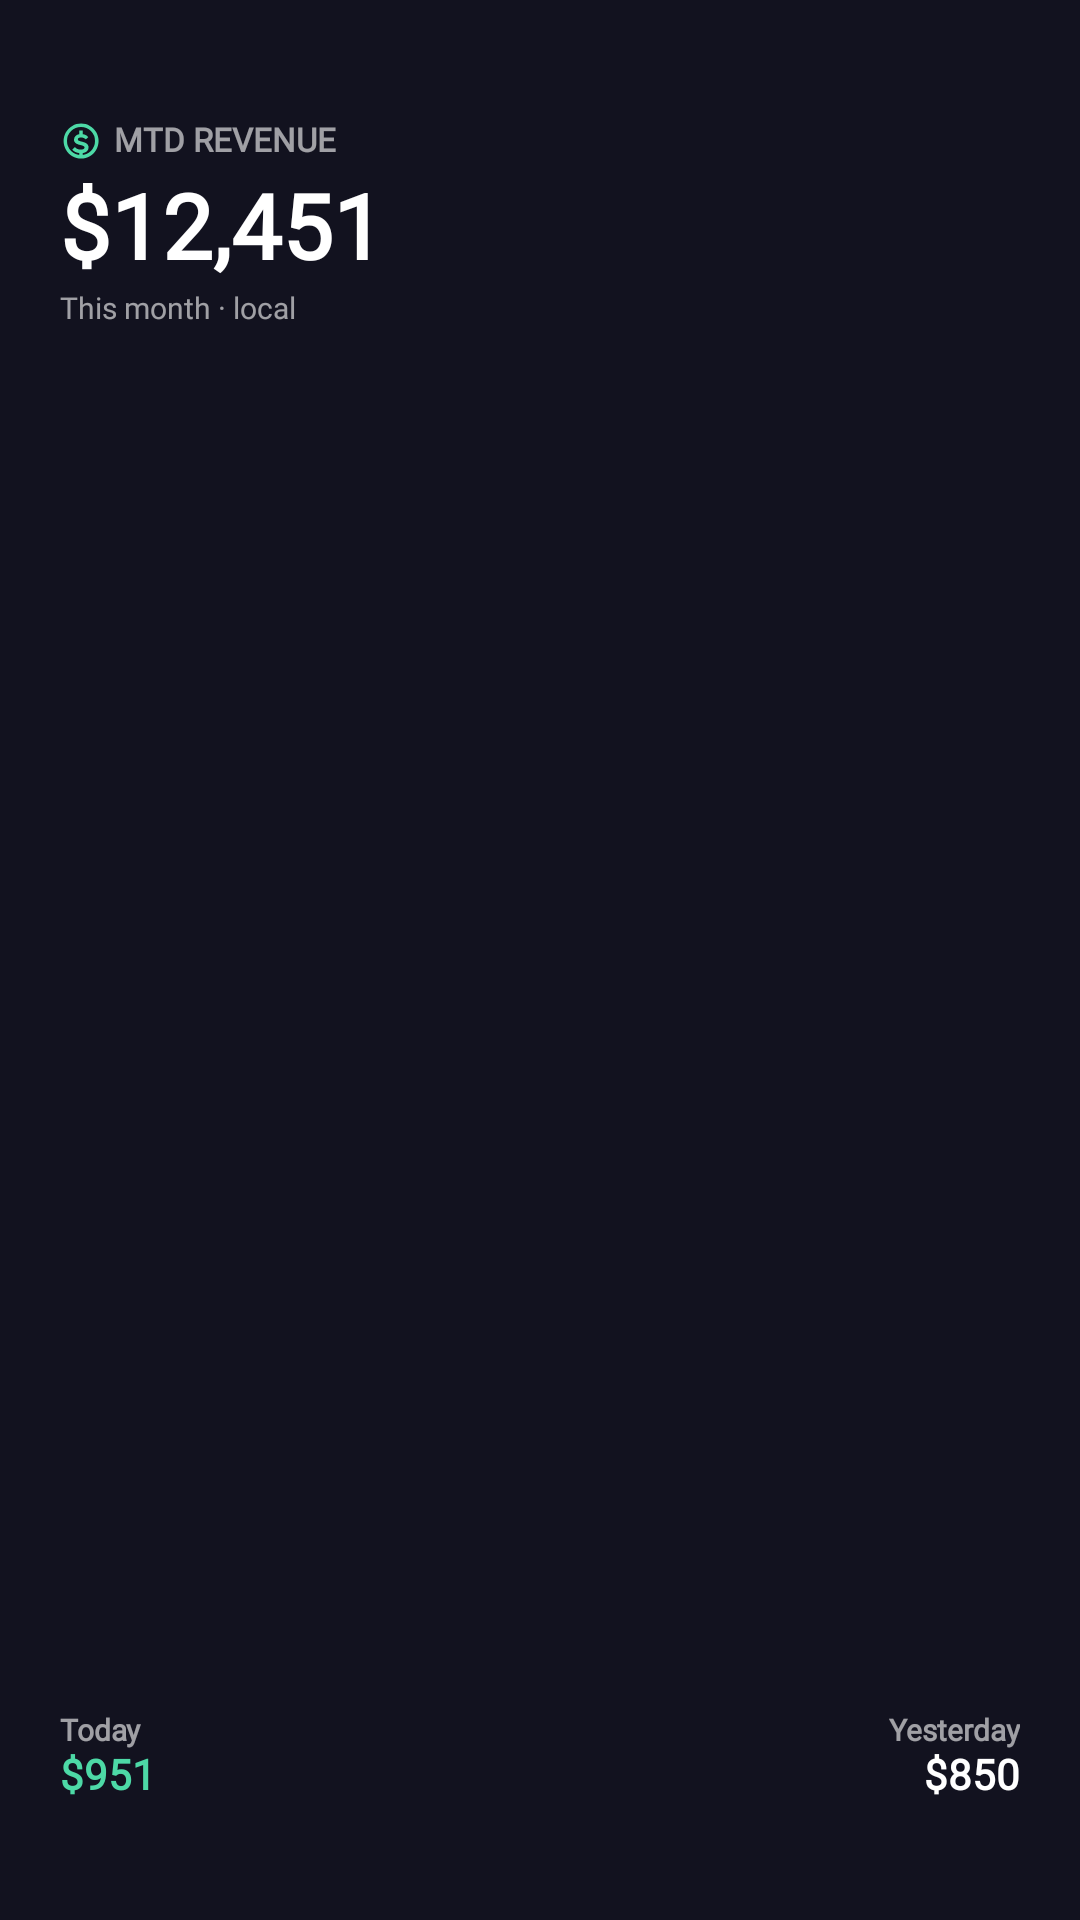

Icons on this 1080×1920 Android screen, each with its box as detection(x1, y1, x2, y2):
widget dollar circle: detection(63, 123, 99, 159)
